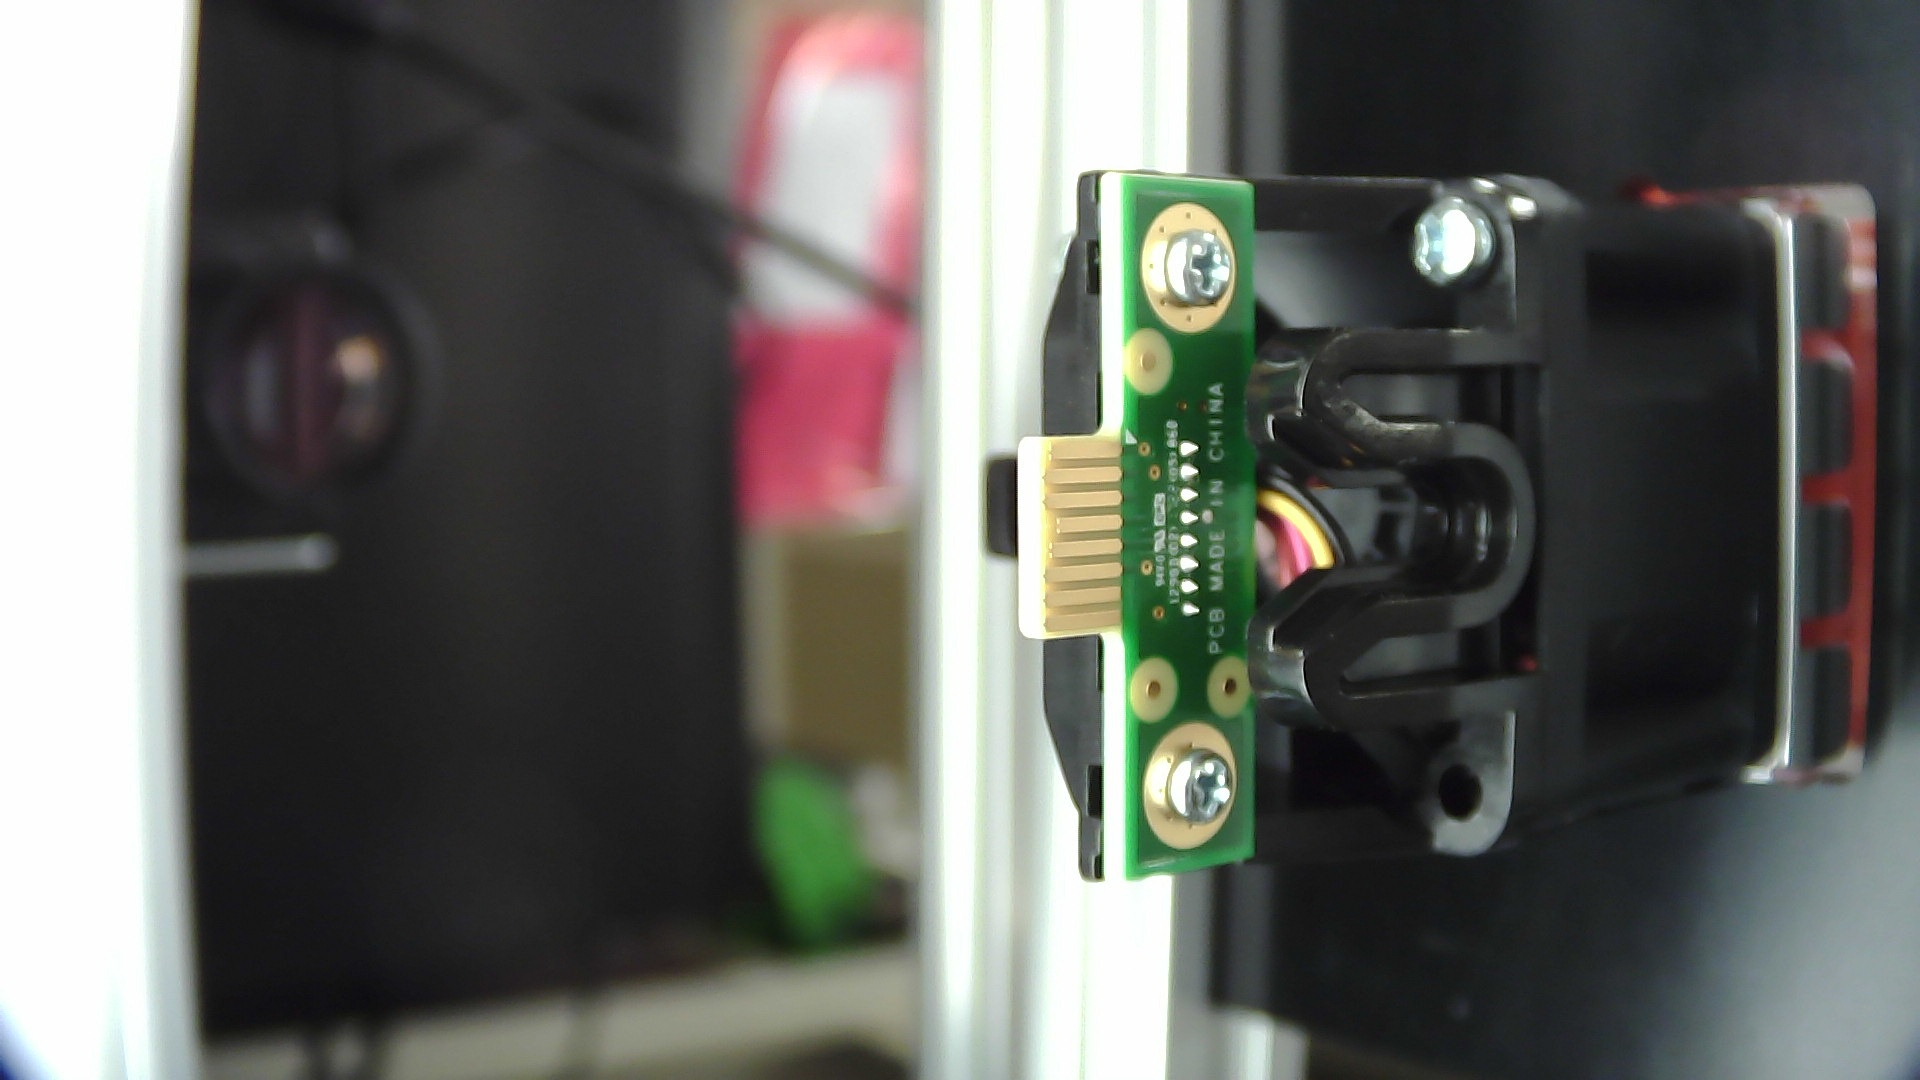7_0: (960, 120, 1907, 935)
